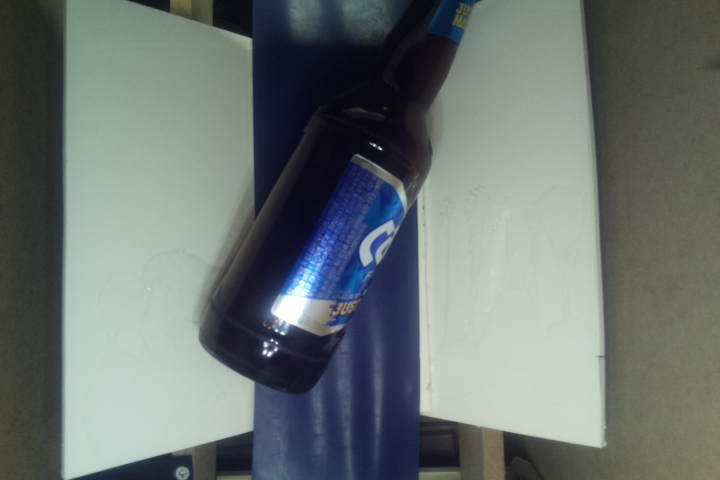makju: (198, 1, 480, 393)
